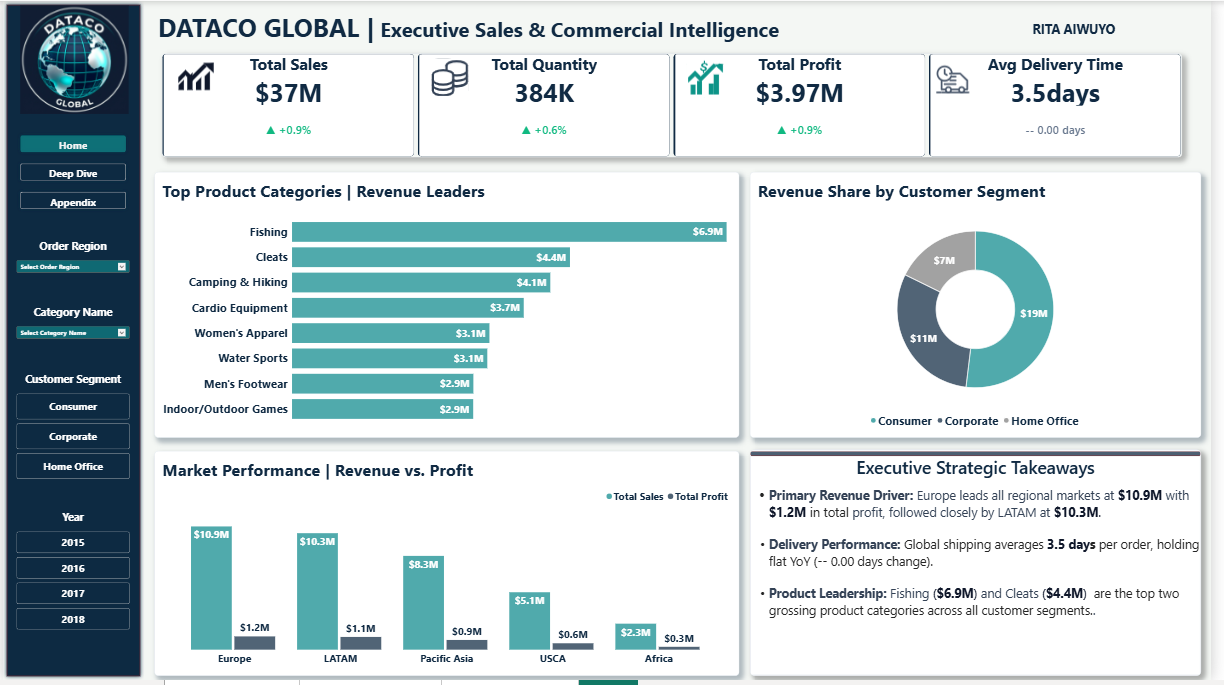

The dashboard page shown, as its layout file describes it:
{"tool":"powerbi","page":{"name":"Home","canvas":[2560,1440],"ordinal":0},"visuals":[{"type":"shape","box":[0,0,299,1440],"z":0},{"type":"textbox","box":[300,20,1456.7,83.3],"z":1000},{"type":"cardVisual","fields":{"Data":["_Measures.Total Sales","_Measures.Total Quantity","_Measures.Total Profit","_Measures.Avg Delivery Time"]},"box":[338.5,110,2163.3,220],"z":2000},{"type":"pageNavigator","box":[30,276.7,240,173.3],"z":3000},{"type":"advancedSlicerVisual","fields":{"Values":["DimDate.Year"]},"box":[30,1080,240,256.7],"z":4000},{"type":"clusteredColumnChart","title":"Market Performance | Revenue vs. Profit","fields":{"Category":["DimLocation.Market"],"Y":["_Measures.Total Sales","_Measures.Total Profit"]},"box":[320,953.3,1240,476.7],"z":5000},{"type":"donutChart","title":"Revenue Share by Customer Segment","fields":{"Category":["DimCustomer.Customer Segment"],"Y":["_Measures.Total Sales"]},"box":[1583.3,363.3,956.7,563.3],"z":6000},{"type":"clusteredBarChart","title":"Top Product Categories | Revenue Leaders","fields":{"Category":["DimProduct.Category Name"],"Y":["_Measures.Total Sales"]},"box":[320,363.3,1240,563.3],"z":7000},{"type":"actionButton","box":[338.5,110,143.3,96.7],"z":8000},{"type":"actionButton","box":[1965.2,110,96.7,110],"z":9000},{"type":"actionButton","box":[1418.5,110,140,106.7],"z":10000},{"type":"actionButton","box":[885.2,110,126.7,100],"z":11000},{"type":"actionButton","box":[3.3,10,296.7,236.7],"z":12000},{"type":"textbox","box":[2000,40,540,60],"z":13000},{"type":"listSlicer","fields":{"Values":["DimLocation.Order Region"]},"box":[30,503.3,240,96.7],"z":14000},{"type":"listSlicer","fields":{"Values":["DimProduct.Category Name"]},"box":[30,643.3,240,103.3],"z":15000},{"type":"advancedSlicerVisual","fields":{"Values":["DimCustomer.Customer Segment"]},"box":[30,786.7,240,230],"z":16000},{"type":"shape","box":[1583.3,950,956.7,480],"z":16001},{"type":"shape","box":[1583.3,953.3,956.7,12],"z":16002},{"type":"textbox","box":[1583.3,963.3,956.7,460],"z":16003}]}

Visuals, with their boxes on the page's 2560x1440 design canvas (x1, y1, x2, y2). These are canvas units, not pixel positions in the 1224x685 screenshot, which may show the page scaled, cropped or inside an application window:
shape: rect(0, 0, 299, 1440)
textbox: rect(300, 20, 1757, 103)
cardVisual - _Measures.Total Sales x _Measures.Total Quantity: rect(338, 110, 2502, 330)
pageNavigator: rect(30, 277, 270, 450)
advancedSlicerVisual - DimDate.Year: rect(30, 1080, 270, 1337)
"Market Performance | Revenue vs. Profit" clusteredColumnChart: rect(320, 953, 1560, 1430)
"Revenue Share by Customer Segment" donutChart: rect(1583, 363, 2540, 927)
"Top Product Categories | Revenue Leaders" clusteredBarChart: rect(320, 363, 1560, 927)
actionButton: rect(338, 110, 482, 207)
actionButton: rect(1965, 110, 2062, 220)
actionButton: rect(1418, 110, 1558, 217)
actionButton: rect(885, 110, 1012, 210)
actionButton: rect(3, 10, 300, 247)
textbox: rect(2000, 40, 2540, 100)
listSlicer - DimLocation.Order Region: rect(30, 503, 270, 600)
listSlicer - DimProduct.Category Name: rect(30, 643, 270, 747)
advancedSlicerVisual - DimCustomer.Customer Segment: rect(30, 787, 270, 1017)
shape: rect(1583, 950, 2540, 1430)
shape: rect(1583, 953, 2540, 965)
textbox: rect(1583, 963, 2540, 1423)
